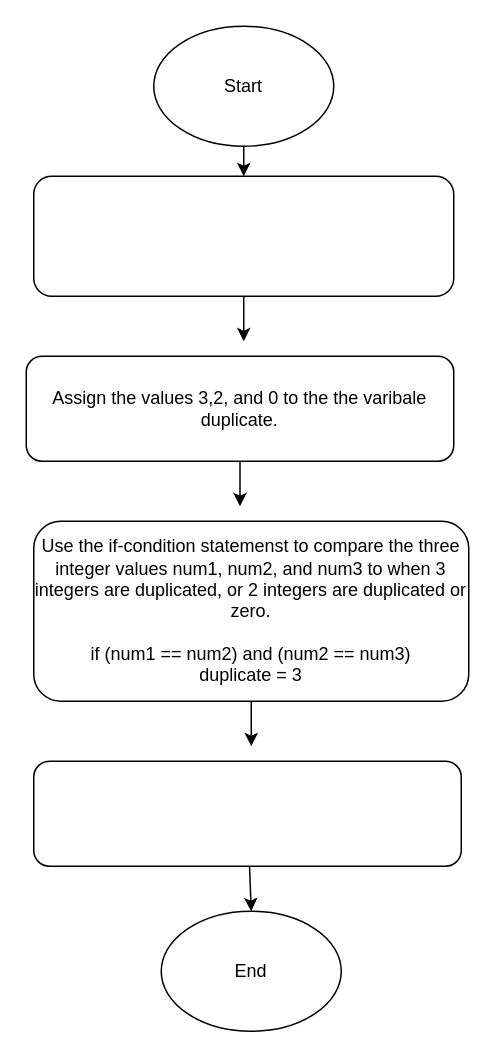
This 495x1058 diagram has some shape labels left out. Each missing label, with the centre of its shape:
"Print the duplication based on the input of the three integer values." goes at (246,813).
"User input three integer values and store them num1, num2, and num3." goes at (243,235).
